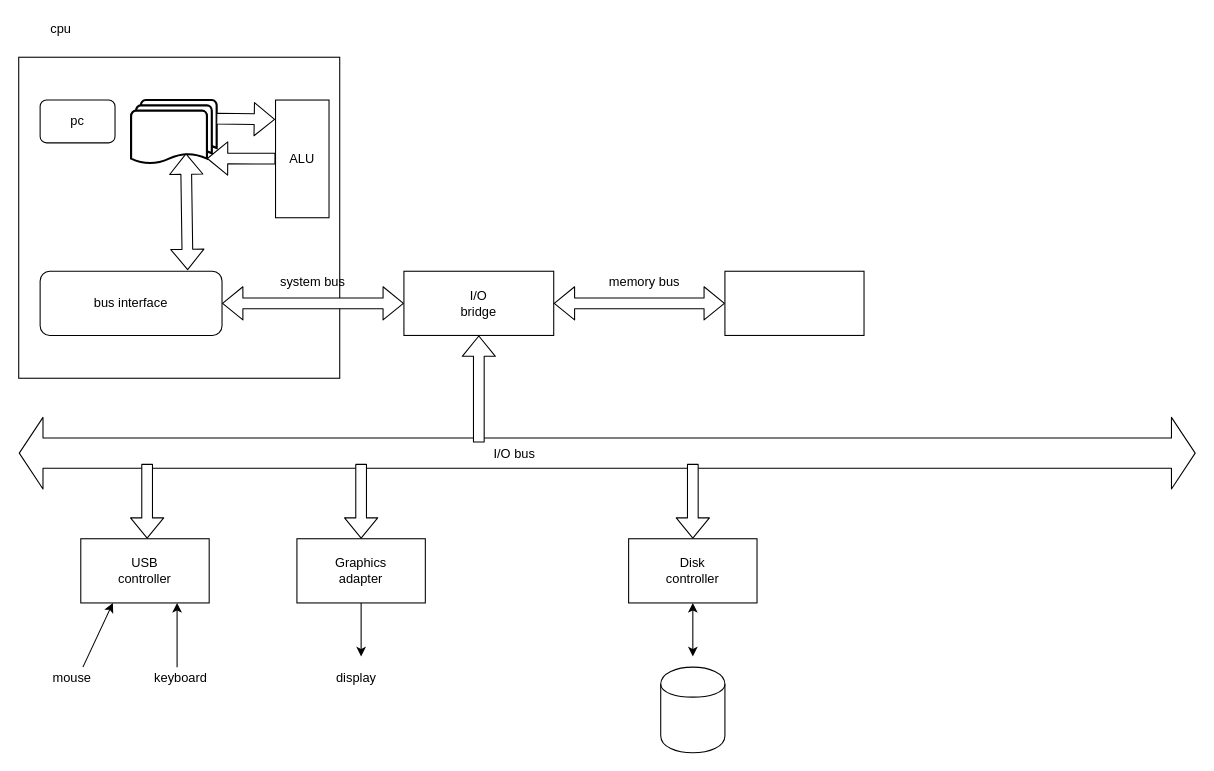
This 1214x771 diagram has some shape labels left out. The shapes that lost their labels are listed below. From the top down, each one's centre as x and y in pixels, then its label:
At point (173, 131): "register file".
At point (794, 302): "main memory".
At point (692, 709): "disk".
